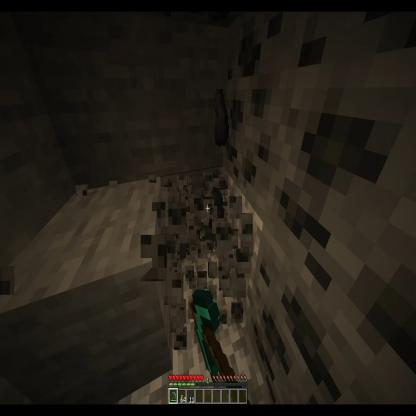coal ore: (266, 0, 416, 325), (244, 230, 378, 416), (223, 19, 302, 224)
